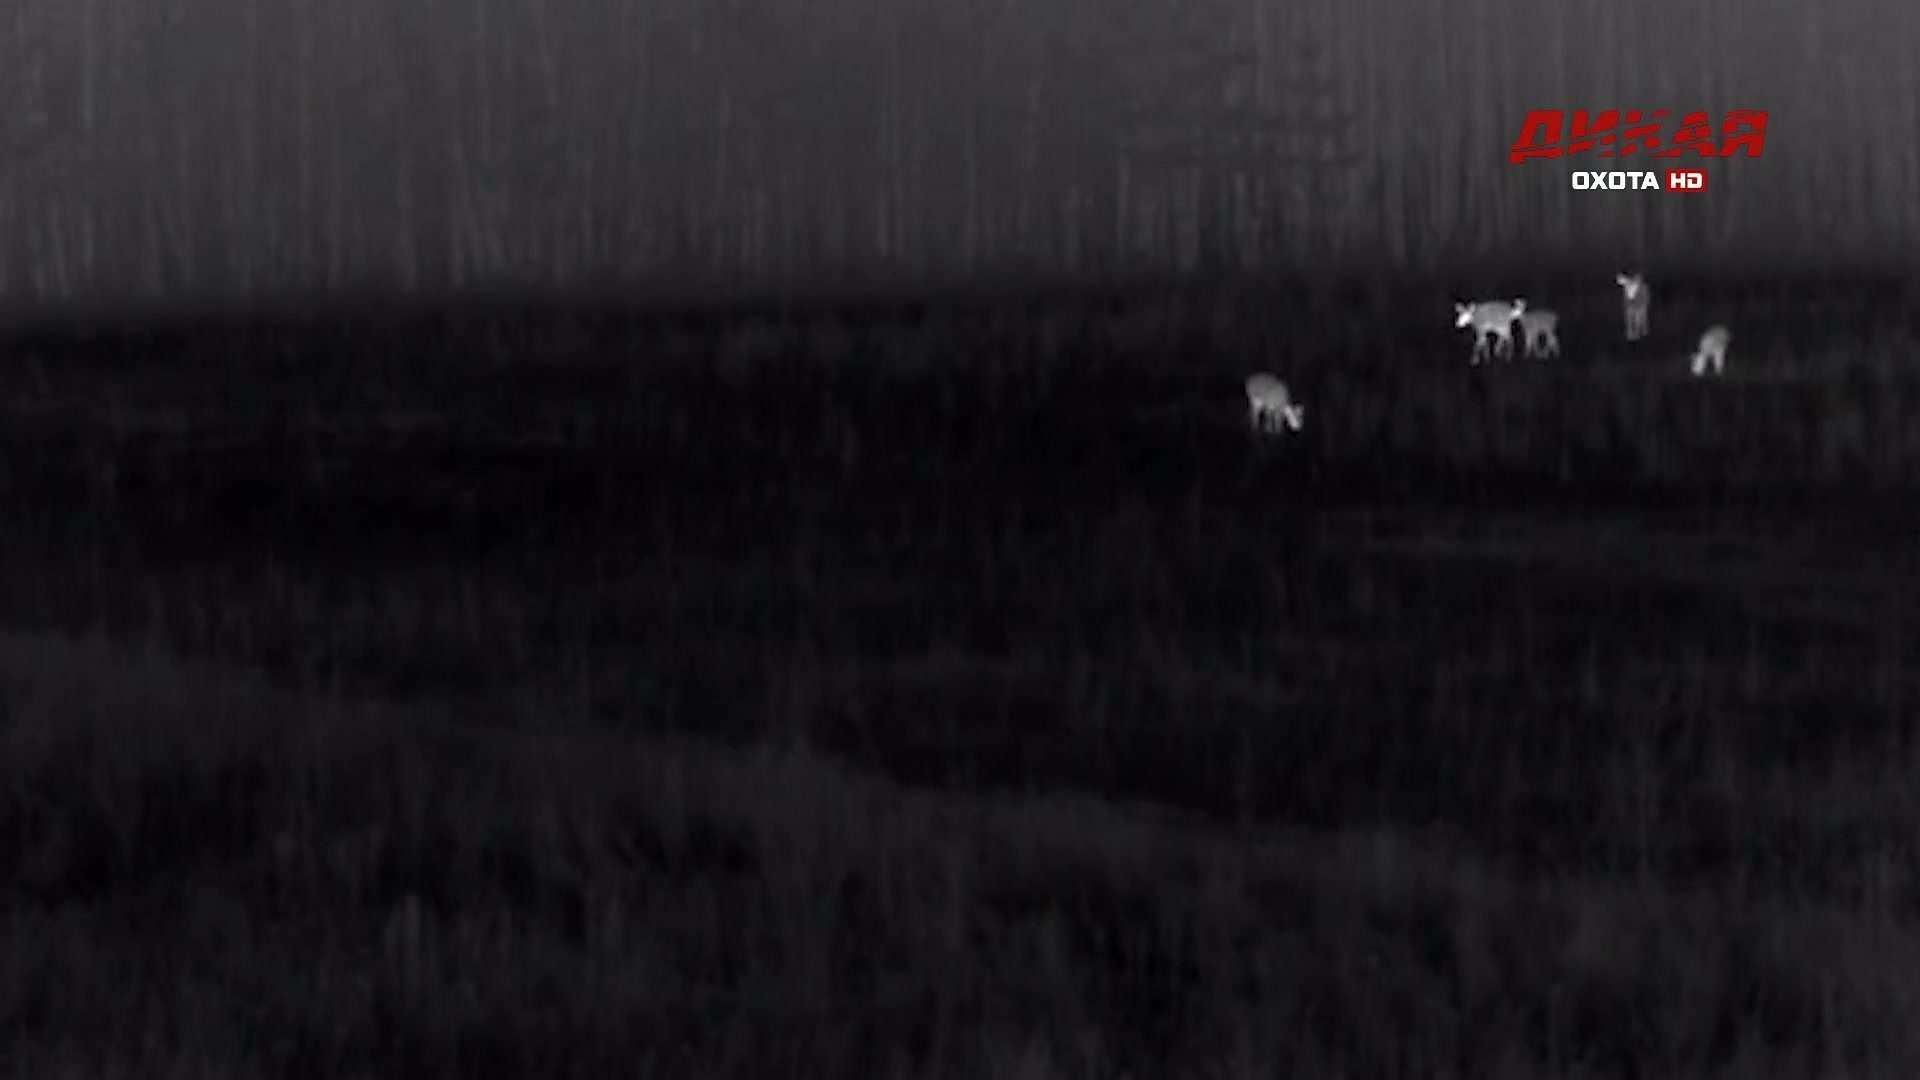Dikaya_Ohota_HD: (1503, 105, 1775, 196)
